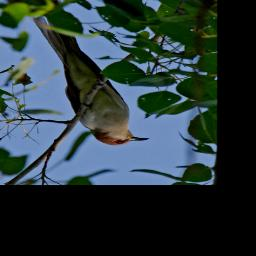Cuckoo: (28, 0, 150, 147)
